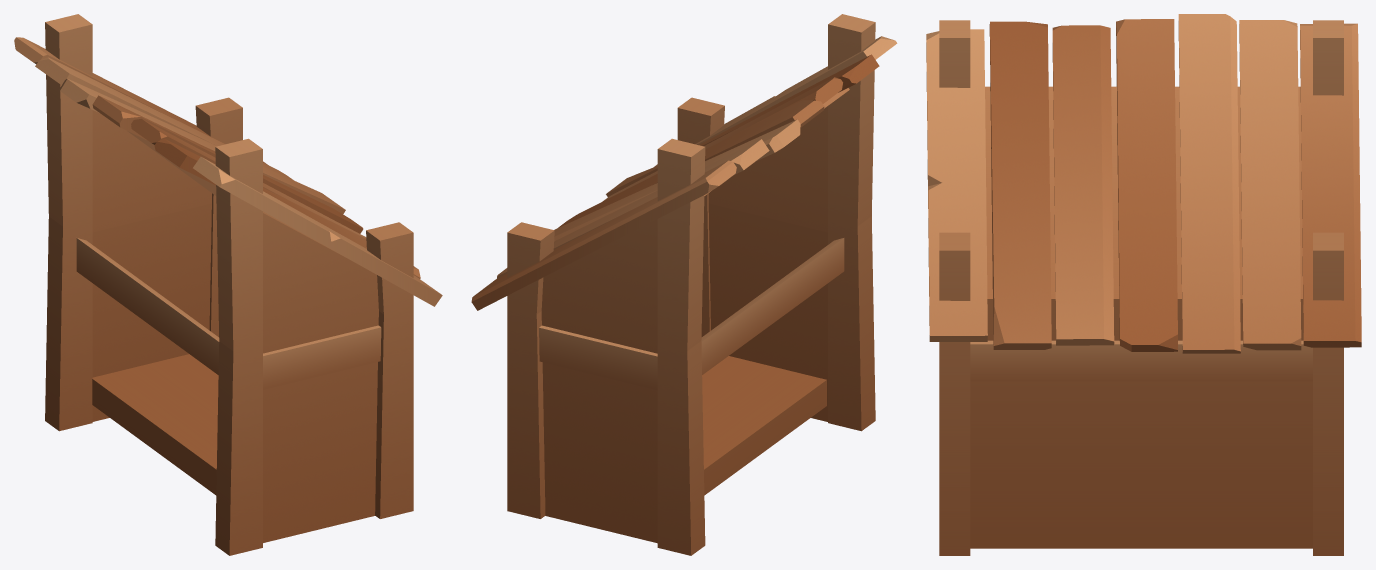
The model's file is wood_hut.obj.
3 renders of one model, left to right at view 1: azimuth 30°, elevation 25°; view 2: azimuth 150°, elevation 25°; view 3: azimuth 270°, elevation 25°, orthographic. The views are drawn at different scales.
Visible parts, largest first — view 1: Cube.006, Cube.010, Cube.012, Cube.007; view 2: Cube.006, Cube.010, Cube.012, Cube.007; view 3: Cube.012, Cube.006, Cube.010, Cube.007.
Boxes of the visible parts, left/top/right/bottom form: Cube.006: left=92, top=110, right=378, bottom=542; Cube.010: left=45, top=14, right=413, bottom=555; Cube.012: left=14, top=37, right=442, bottom=306; Cube.007: left=76, top=238, right=381, bottom=389; Cube.006: left=541, top=88, right=849, bottom=543; Cube.010: left=507, top=14, right=875, bottom=555; Cube.012: left=471, top=36, right=897, bottom=310; Cube.007: left=539, top=238, right=844, bottom=389; Cube.012: left=926, top=14, right=1361, bottom=353; Cube.006: left=970, top=86, right=1312, bottom=548; Cube.010: left=939, top=20, right=1343, bottom=555; Cube.007: left=970, top=340, right=1312, bottom=381.
Bounding box in the file's own units: 3.55 × 5.08 × 4.58.
